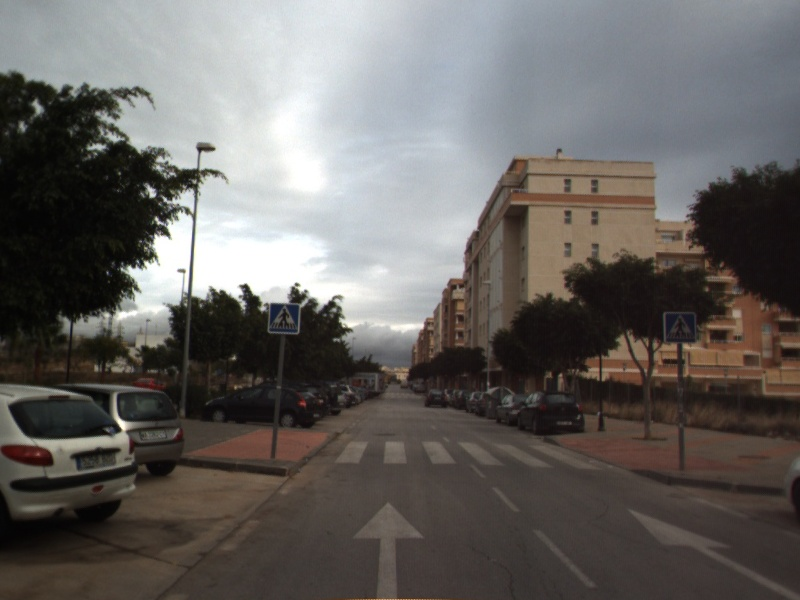STRAIGHT: (625, 506, 800, 600), (350, 499, 427, 600)
